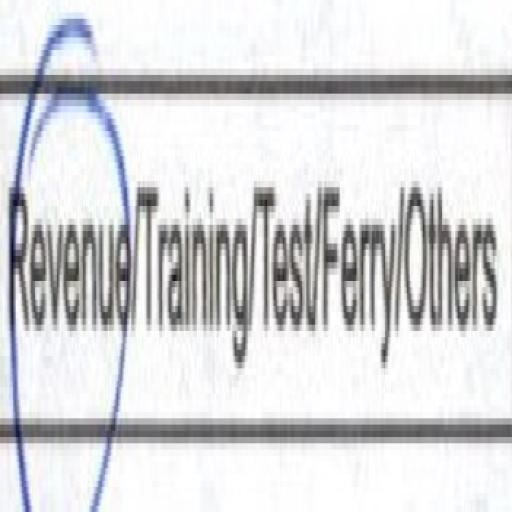check: (1, 0, 132, 512)
